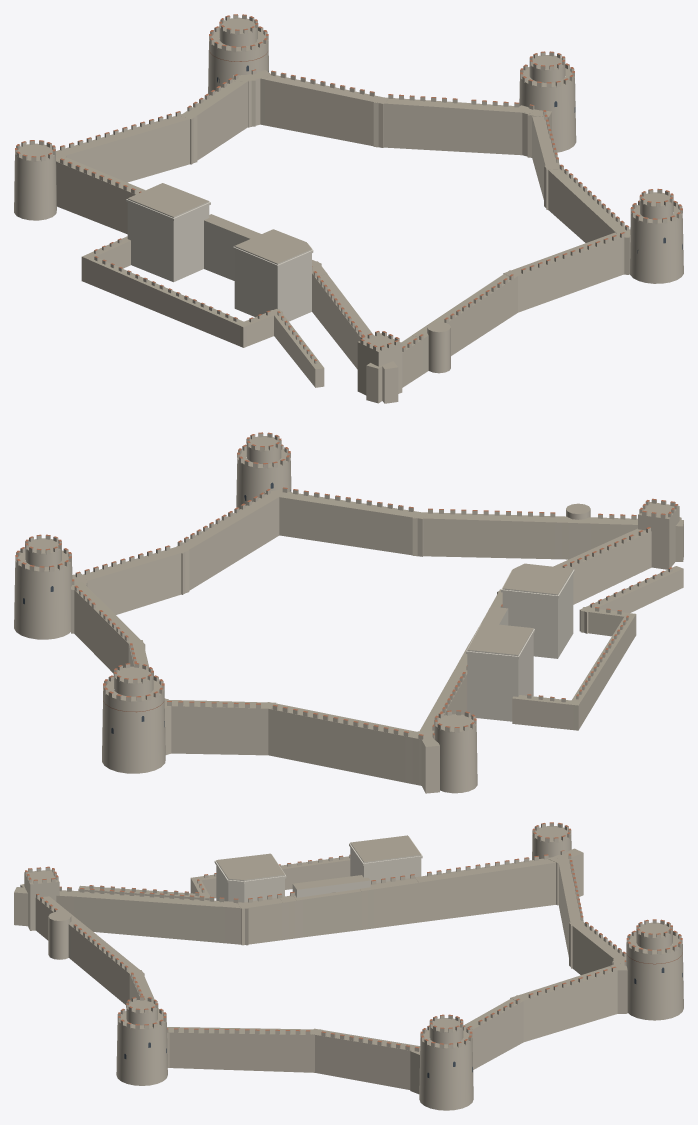
The model's file is istanbul-yedikule-fortress.glb.
The picture shows the model from 3 angles, top to bottom: view 1: azimuth 30°, elevation 25°; view 2: azimuth 150°, elevation 25°; view 3: azimuth 270°, elevation 25°; orthographic projection. The views are drawn at different scales.
Parts seen in each view (by area): view 1: Yedikule Fortress; view 2: Yedikule Fortress; view 3: Yedikule Fortress.
Boxes of the visible parts, x1,y1,x2,y2 form: Yedikule Fortress: (14,14,683,403); Yedikule Fortress: (14,432,683,793); Yedikule Fortress: (14,822,683,1110).
Size of the model in its own units: 188 by 29.92 by 224.
